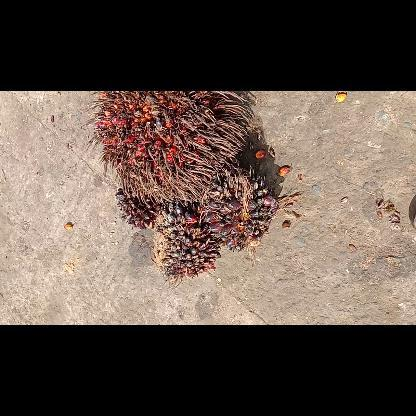TBS abnormal: (200, 170, 280, 254), (150, 201, 224, 283), (114, 186, 162, 232)
Terlalu masak: (83, 92, 256, 202)
